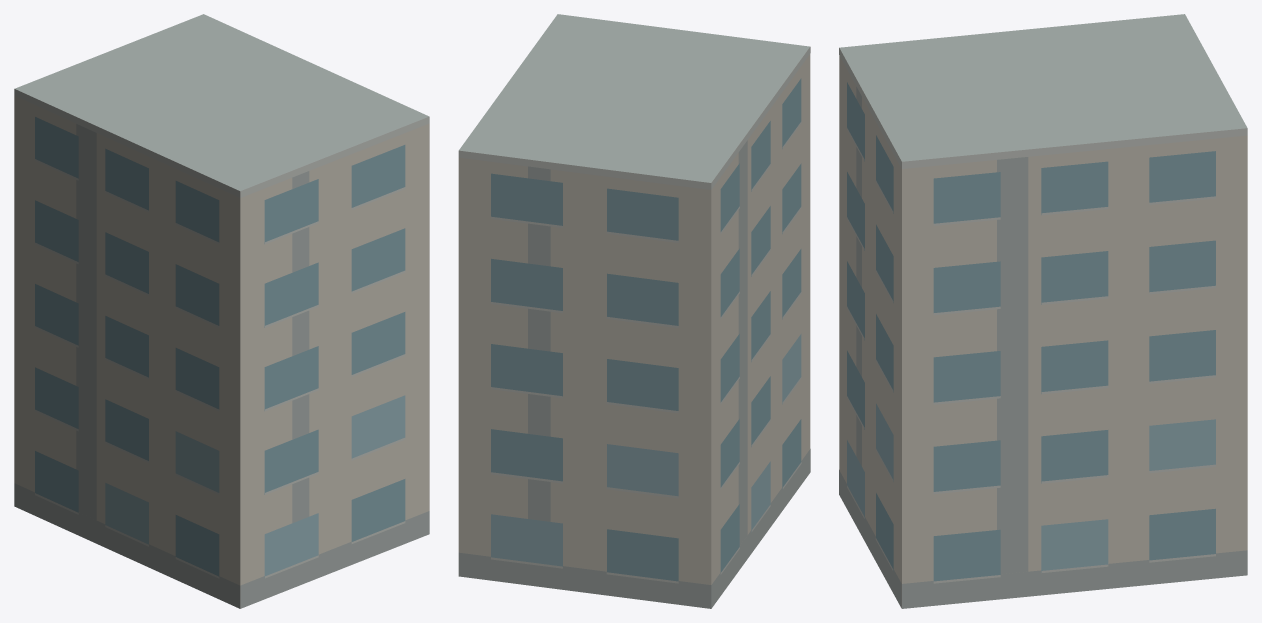
File: survey-upis-32629849.glb
3 renders of one model, left to right at view 1: azimuth 30°, elevation 25°; view 2: azimuth 150°, elevation 25°; view 3: azimuth 270°, elevation 25°, orthographic. The views are drawn at different scales.
Visible parts, largest first — view 1: survey-upis-32629849.tmp; view 2: survey-upis-32629849.tmp; view 3: survey-upis-32629849.tmp.
Boxes of the visible parts, x1,y1,x2,y2 form: survey-upis-32629849.tmp: (14,14,429,608); survey-upis-32629849.tmp: (458,14,810,608); survey-upis-32629849.tmp: (839,14,1247,608).
Size of the model in its own units: 10.57 by 14.9 by 12.35.
